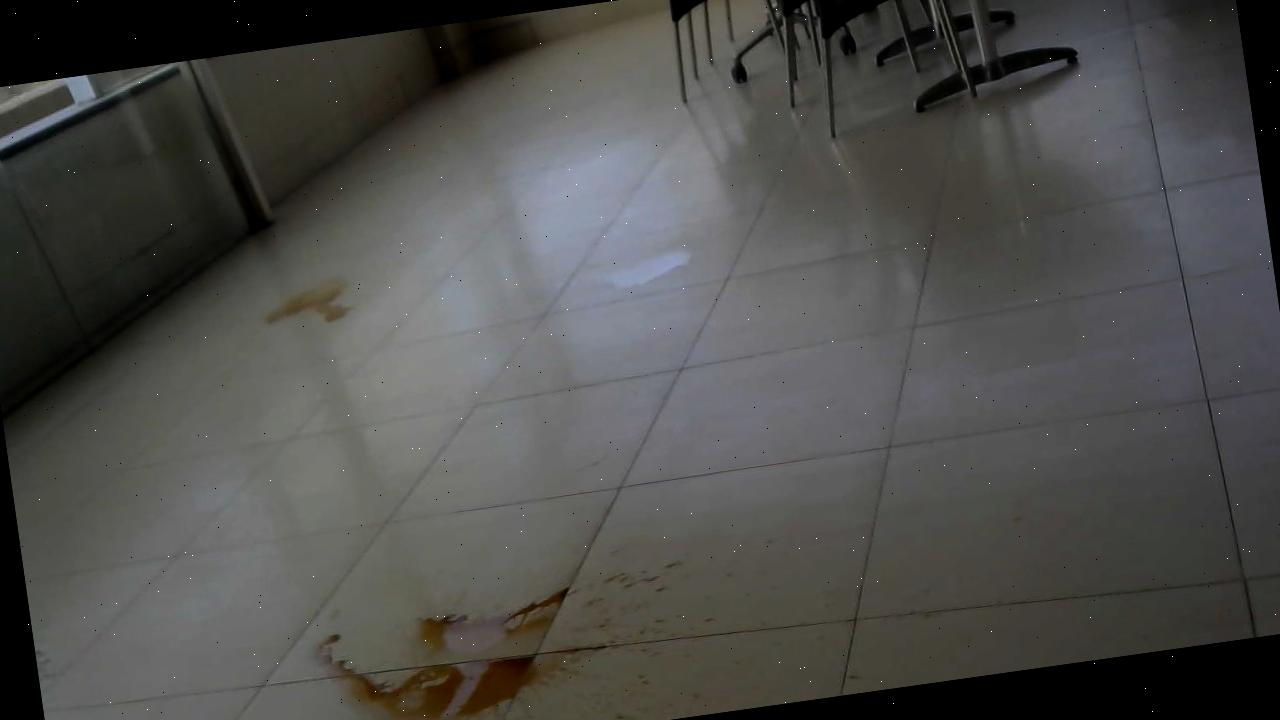dirty_floor: (295, 550, 706, 720), (255, 267, 360, 337), (592, 238, 700, 300)
